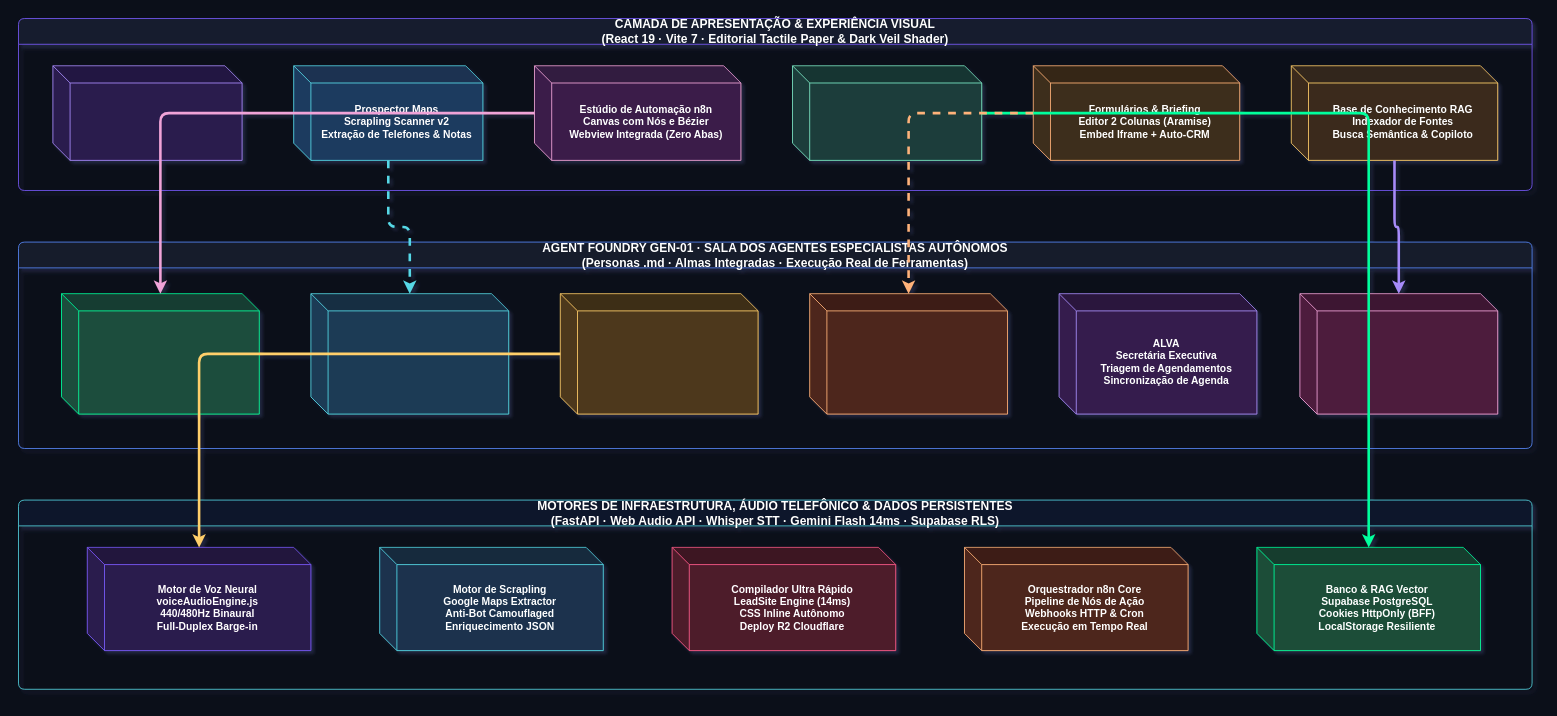
Some shapes in this 1557 by 716 pixel diagram are drawn without their labels. Each missing label, with the centre of its shape:
APOLO Tel-Agent (Voz IA) Ligações Ativas SIP Voz Neural & Barge-in: the point at 658,353
ATLAS Inteligência de Mercado Scrapling Google Maps Enriquecimento & Score: the point at 409,353
CRM Comercial & Funil Pipelines Dinâmicos Arrastar & Soltar Leads: the point at 887,112
Landing Page 3D Hero Cinematográfico Pixel Blast & Shaders: the point at 147,112
LEO Operador de Sistemas Disparos de WhatsApp Spintax & CRM Sync: the point at 160,353
MAIA Head de Copywriting Roteiros Persuasivos Spintax Anti-Bloqueio: the point at 908,353
NOVA Estrategista de Negócios Gargalos de Fechamento Benchmark & Soluções: the point at 1398,353
